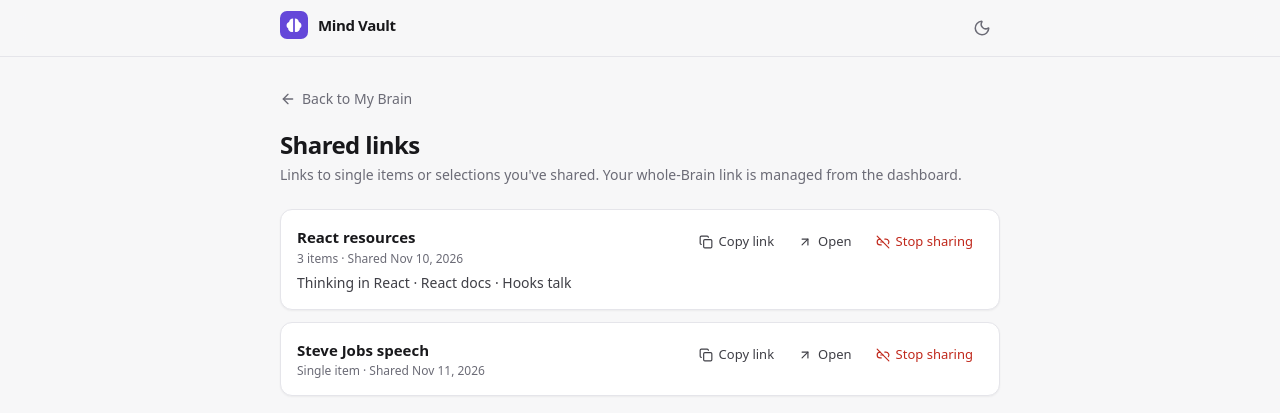
Test case: Shared links page › stops sharing after confirmation and removes the row
Click the button "Stop sharing" in the row of "· Shared Nov 10, 2026": coordinates (924, 242) [866, 226, 983, 258]
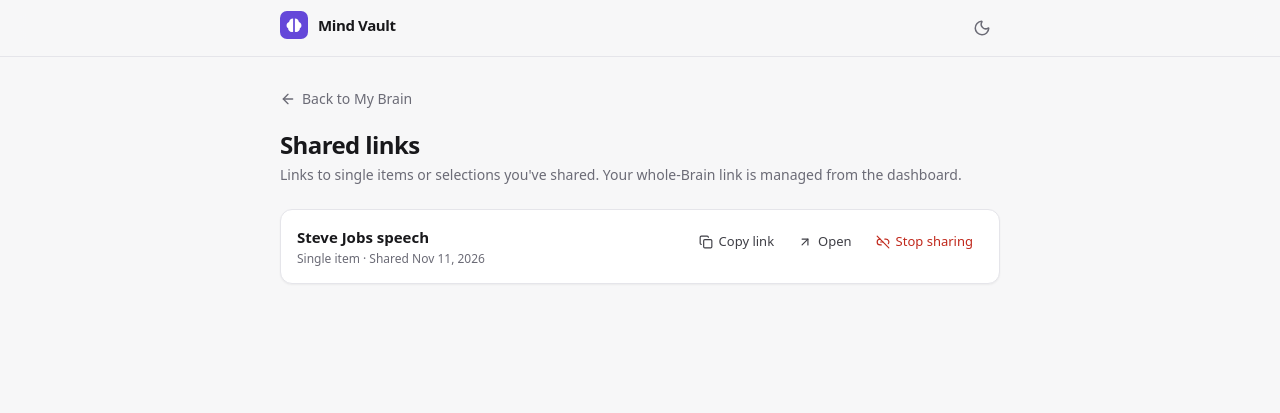
Now the heading "React resources" is gone
